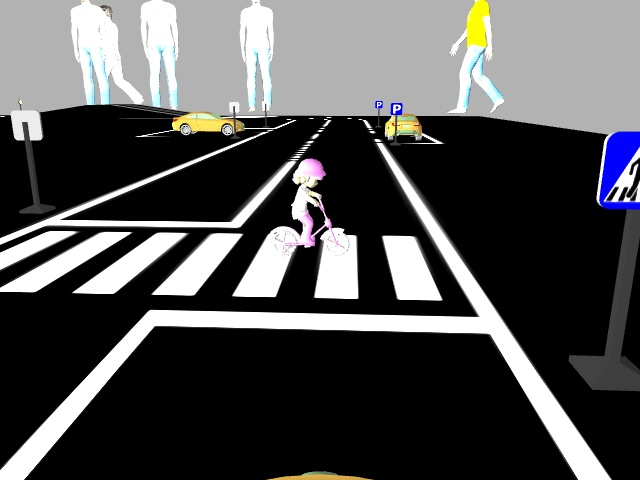Crosswalk: (597, 129, 639, 214)
Parking: (387, 100, 404, 115)
Pedestrian: (266, 155, 354, 257)
